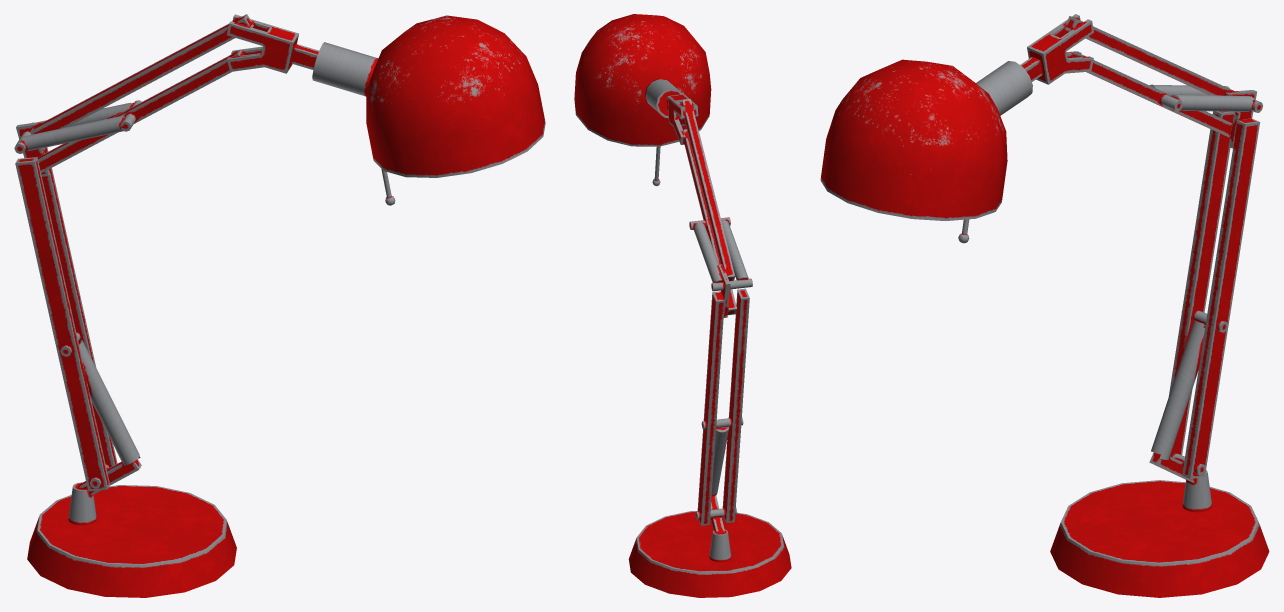
Rendered from CR_Table_lamp.fbx.
3 views of the same model, side by side, from view 1: azimuth 30°, elevation 25°; view 2: azimuth 150°, elevation 25°; view 3: azimuth 270°, elevation 25° (orthographic). The views are drawn at different scales.
Parts seen in each view (by area): view 1: Table_lamp; view 2: Table_lamp; view 3: Table_lamp.
Boxes of the visible parts, left/top/right/bottom form: Table_lamp: left=14, top=14, right=545, bottom=597; Table_lamp: left=574, top=14, right=791, bottom=597; Table_lamp: left=820, top=14, right=1269, bottom=597.
Bounding box in the file's own units: 30.9 × 44.49 × 30.9.
